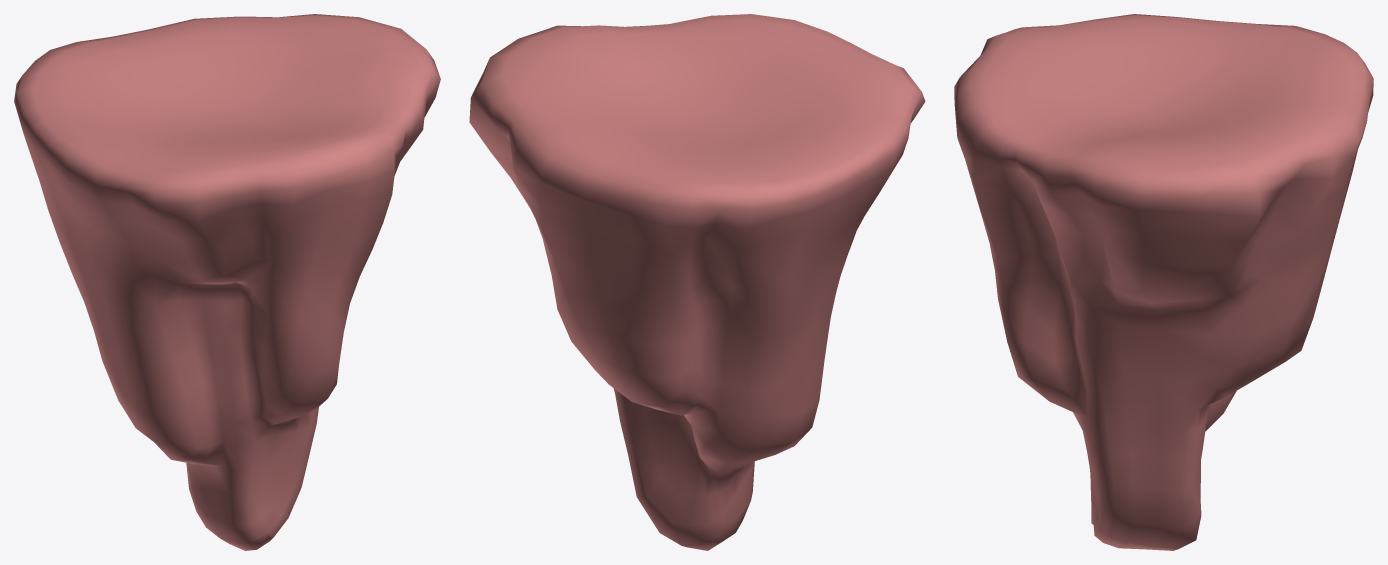
File: platformSmall00_mdl.fbx
3 views of the same model, side by side, from view 1: azimuth 30°, elevation 25°; view 2: azimuth 150°, elevation 25°; view 3: azimuth 270°, elevation 25° (orthographic). The views are drawn at different scales.
Visible parts, largest first — view 1: platformSmall00_nskn; view 2: platformSmall00_nskn; view 3: platformSmall00_nskn.
Part boxes in pixels (<box>): platformSmall00_nskn: <box>14,14,440,550</box>; platformSmall00_nskn: <box>469,14,925,550</box>; platformSmall00_nskn: <box>954,14,1373,550</box>.
Size of the model in its own units: 237 by 275 by 224.
